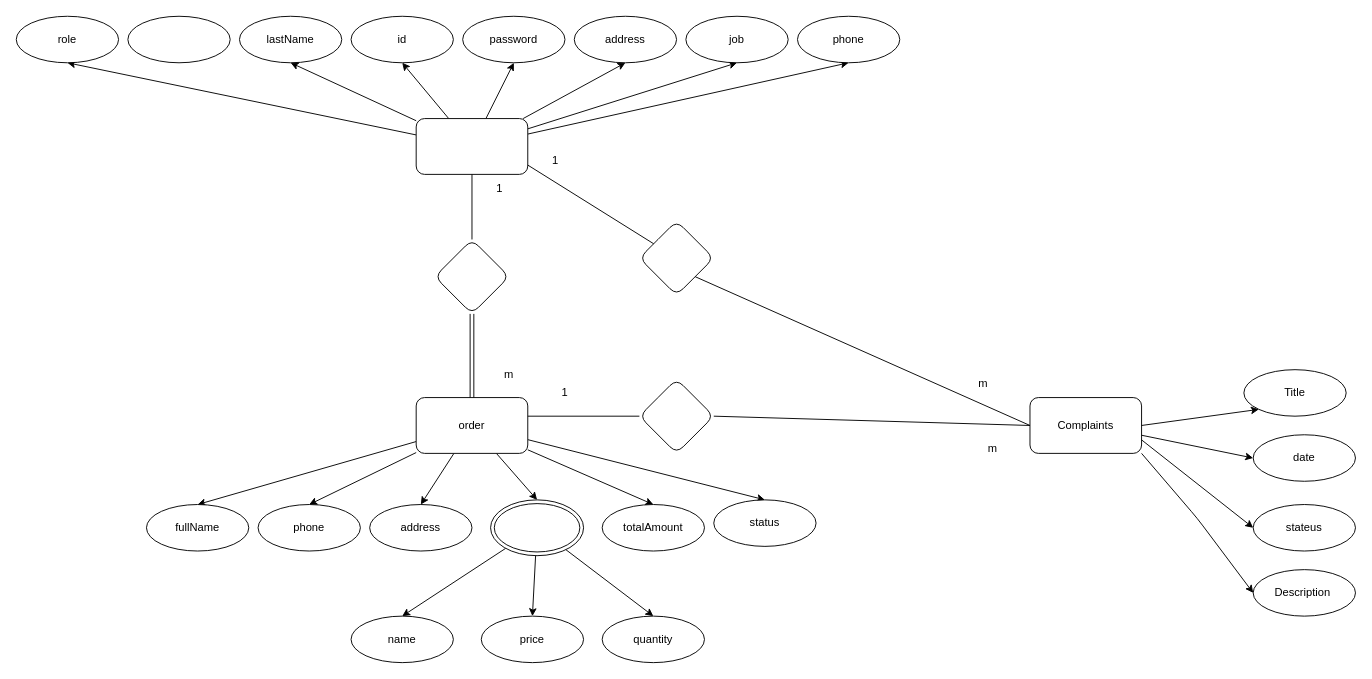
The diagram is 1372 pixels wide and 679 high, and some of its shapes have lost their labels. Each missing label, with the centre of its shape:
"create" goes at pixel 471 276.
"firstName" goes at pixel 178 39.
"have" goes at pixel 676 415.
"product" goes at pixel 537 527.
"Submit" goes at pixel 676 257.
"User" goes at pixel 471 146.
